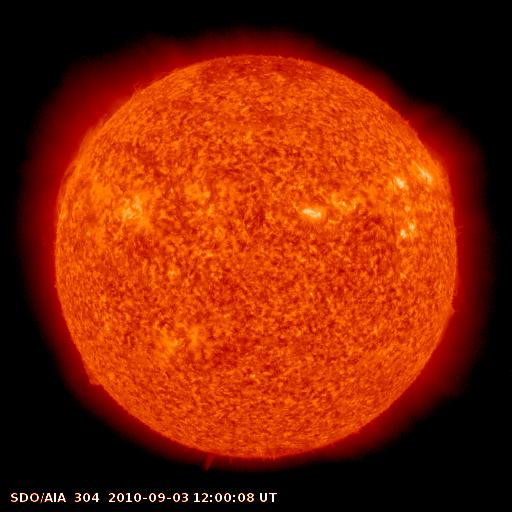prominence: (41, 105, 118, 217), (427, 154, 459, 202), (74, 351, 111, 390)
